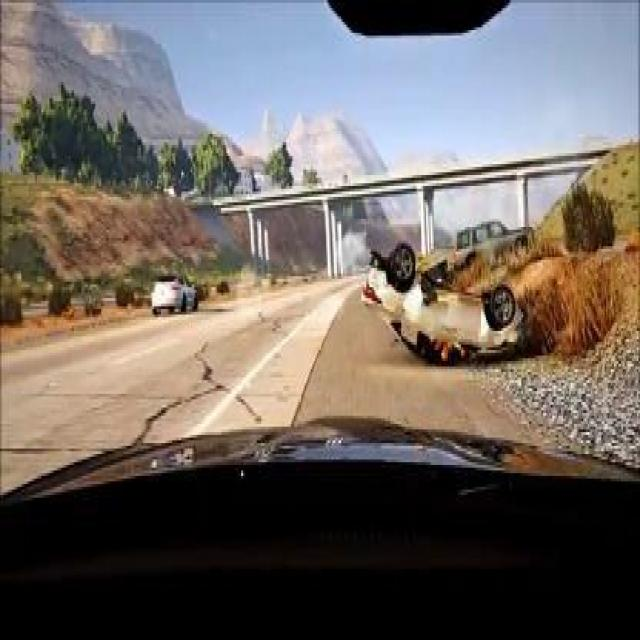accident: (355, 238, 531, 366)
